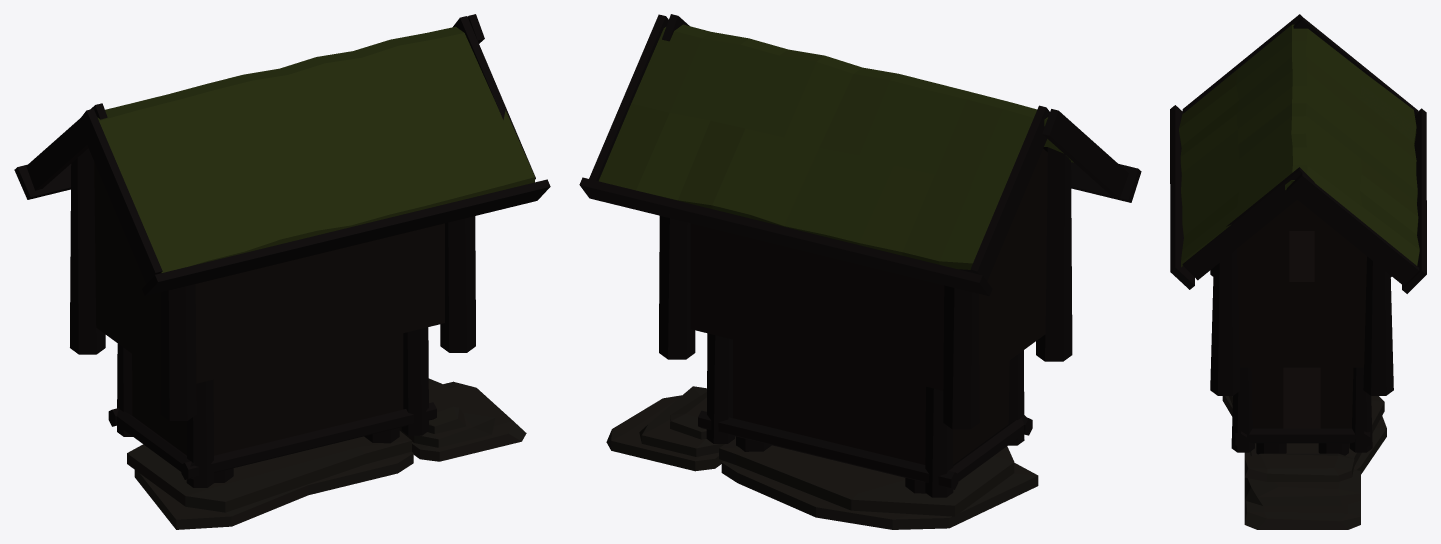
The model's file is Village_SodHouse_1.fbx.
3 views of the same model, side by side, from view 1: azimuth 30°, elevation 25°; view 2: azimuth 150°, elevation 25°; view 3: azimuth 270°, elevation 25° (orthographic). The views are drawn at different scales.
Visible parts, largest first — view 1: Village_SodHouse_1; view 2: Village_SodHouse_1; view 3: Village_SodHouse_1.
Part boxes in pixels (bbox=[...]): Village_SodHouse_1: bbox=[14, 14, 550, 529]; Village_SodHouse_1: bbox=[579, 14, 1141, 529]; Village_SodHouse_1: bbox=[1170, 14, 1426, 529].
Size of the model in its own units: 1162 by 1080 by 722.
